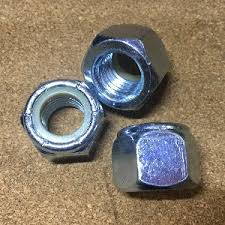Thread: (87, 46, 147, 106), (34, 93, 87, 139)
